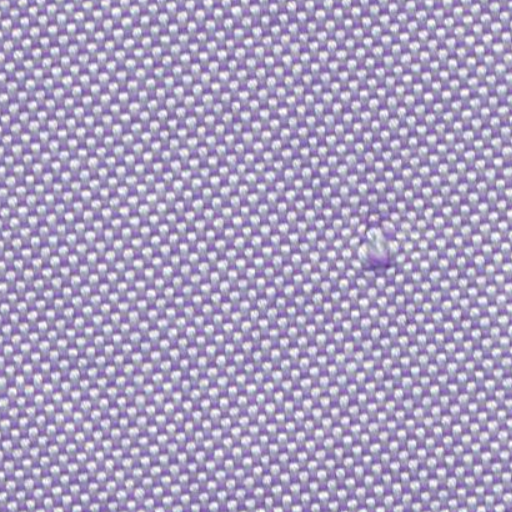MianQiu: (341, 200, 413, 289)
